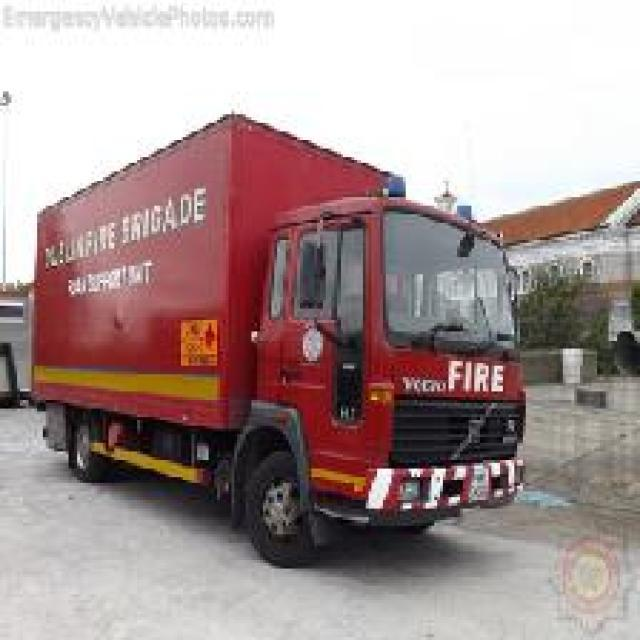emergency: (20, 106, 532, 568)
